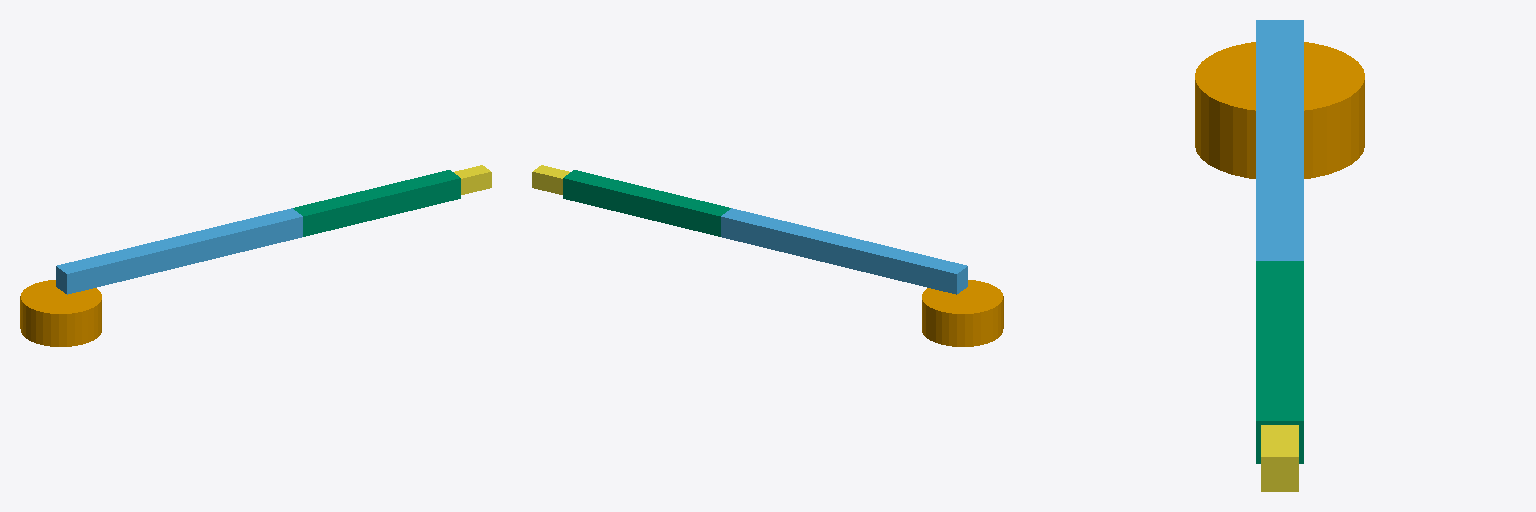
robot.urdf — oia_training_arm:
<?xml version="1.0"?>
<robot name="oia_training_arm">
  <link name="base"><visual><geometry><cylinder radius="0.09" length="0.08"/></geometry></visual><collision><geometry><cylinder radius="0.09" length="0.08"/></geometry></collision></link>
  <link name="upper"><visual><origin xyz="0.3 0 0"/><geometry><box size="0.6 0.05 0.05"/></geometry></visual><collision><origin xyz="0.3 0 0"/><geometry><box size="0.6 0.05 0.05"/></geometry></collision><inertial><origin xyz="0.3 0 0"/><mass value="2"/><inertia ixx="0.0008333" ixy="0" ixz="0" iyy="0.0604167" iyz="0" izz="0.0604167"/></inertial></link>
  <link name="fore"><visual><origin xyz="0.2 0 0"/><geometry><box size="0.4 0.05 0.05"/></geometry></visual><collision><origin xyz="0.2 0 0"/><geometry><box size="0.4 0.05 0.05"/></geometry></collision><inertial><origin xyz="0.2 0 0"/><mass value="1"/><inertia ixx="0.0004167" ixy="0" ixz="0" iyy="0.0135417" iyz="0" izz="0.0135417"/></inertial></link>
  <link name="tool"><visual><origin xyz="0.04 0 0"/><geometry><box size="0.08 0.04 0.04"/></geometry></visual><collision><origin xyz="0.04 0 0"/><geometry><box size="0.08 0.04 0.04"/></geometry></collision></link>
  <link name="tcp"/>
  <joint name="shoulder" type="revolute"><origin xyz="0 0 0.08"/><parent link="base"/><child link="upper"/><axis xyz="0 0 1"/><limit lower="-3.14159" upper="3.14159" effort="12" velocity="1.4"/></joint>
  <joint name="elbow" type="revolute"><origin xyz="0.6 0 0"/><parent link="upper"/><child link="fore"/><axis xyz="0 0 1"/><limit lower="-2.96706" upper="2.96706" effort="12" velocity="1.4"/></joint>
  <joint name="tool_mount" type="fixed"><origin xyz="0.4 0 0"/><parent link="fore"/><child link="tool"/></joint>
  <joint name="tool_tip" type="fixed"><origin xyz="0.08 0 0"/><parent link="tool"/><child link="tcp"/></joint>
</robot>

--- Render facts (derived) ---
Views: 3 orthographic renders of the robot side by side, from view 1: azimuth 30°, elevation 25°; view 2: azimuth 150°, elevation 25°; view 3: azimuth 270°, elevation 25°.
Robot: oia_training_arm — 5 links, 4 joints (2 revolute, 2 fixed); root link base; default pose: all joints at 0.
Links seen in each view (by area): view 1: upper, fore, base, tool; view 2: upper, fore, base, tool; view 3: base, upper, fore, tool.
Boxes of the visible links, x1=… form: upper: x1=56, y1=208, x2=302, y2=294; fore: x1=293, y1=170, x2=460, y2=236; base: x1=20, y1=280, x2=101, y2=346; tool: x1=454, y1=165, x2=491, y2=194; upper: x1=721, y1=208, x2=967, y2=294; fore: x1=563, y1=170, x2=730, y2=236; base: x1=922, y1=280, x2=1003, y2=346; tool: x1=532, y1=165, x2=569, y2=194; base: x1=1195, y1=42, x2=1364, y2=178; upper: x1=1256, y1=20, x2=1303, y2=260; fore: x1=1256, y1=261, x2=1303, y2=463; tool: x1=1261, y1=425, x2=1298, y2=491.
Bounding box of the posed robot: 1.17 × 0.18 × 0.145 m (x, y, z).
Geometry: primitives only (box / cylinder / sphere), no mesh files.
